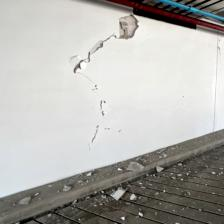High: (64, 12, 146, 162)
